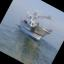fishing boat: (14, 2, 59, 48)
